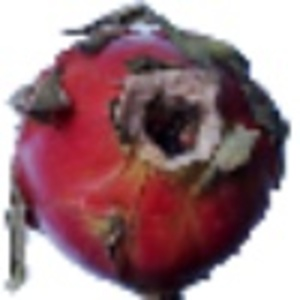pitaia: (4, 1, 292, 300)
